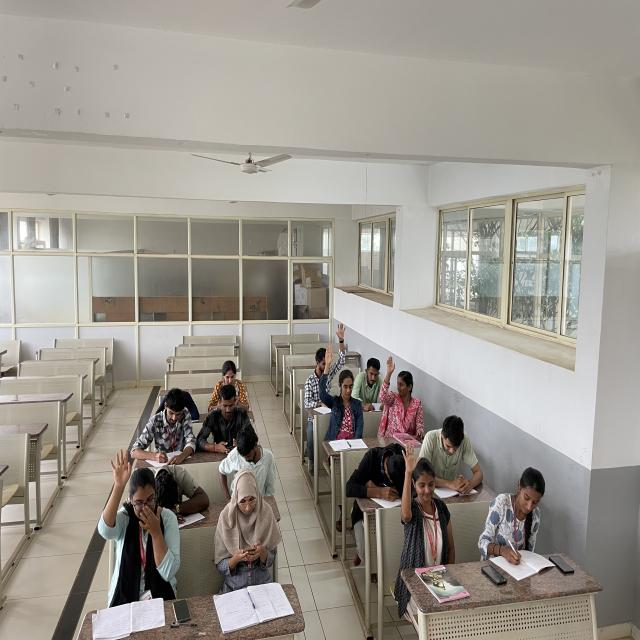Hand Rising: (96, 452, 176, 584), (395, 435, 456, 554), (312, 349, 364, 436), (300, 323, 350, 399), (380, 356, 426, 434)
Sleeping: (355, 438, 415, 510)
Using Phone: (208, 470, 278, 584), (197, 386, 256, 456), (202, 358, 253, 409)
Writing: (476, 462, 564, 573), (134, 389, 199, 470)
